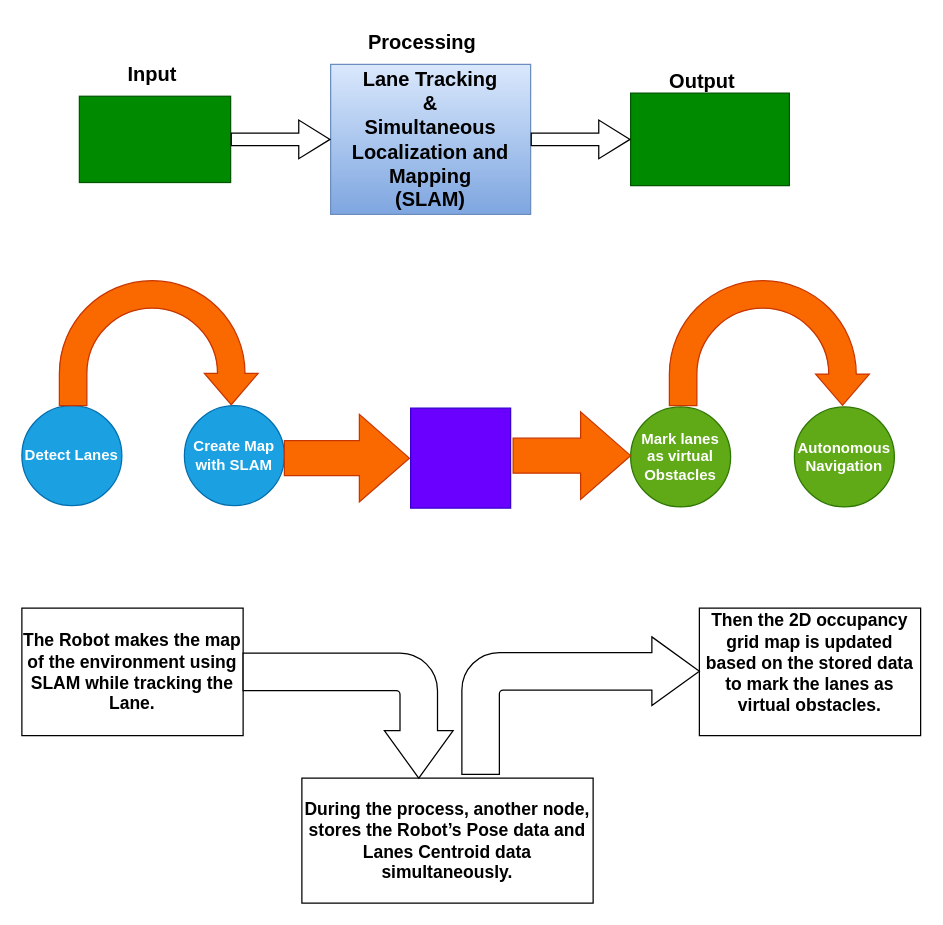
The diagram is 943 pixels wide and 925 high, and some of its shapes have lost their labels. Here are the shapes that lost their labels. From the top down, the box of each, then its label:
(78, 95, 231, 182): Camera Feed & Odometry Data
(629, 92, 789, 186): Robot Steering & Virtual Obstacle Avoidance
(409, 407, 511, 508): Log Robot's Pose Data and Lines Centroids Data
